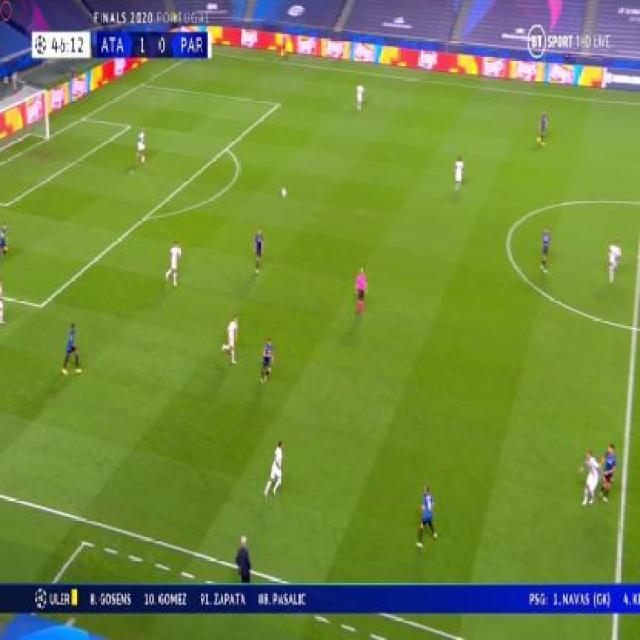ball: (280, 184, 288, 198)
player: (263, 438, 286, 500), (578, 446, 601, 506), (417, 480, 437, 545), (600, 438, 619, 503), (61, 321, 81, 377), (223, 311, 242, 364), (353, 265, 370, 318), (166, 237, 183, 285), (259, 337, 275, 383), (606, 239, 622, 282), (538, 223, 551, 271), (251, 225, 264, 271), (451, 154, 465, 193), (536, 109, 550, 146), (135, 125, 148, 164), (0, 264, 8, 324), (0, 219, 9, 259), (355, 79, 366, 110)
